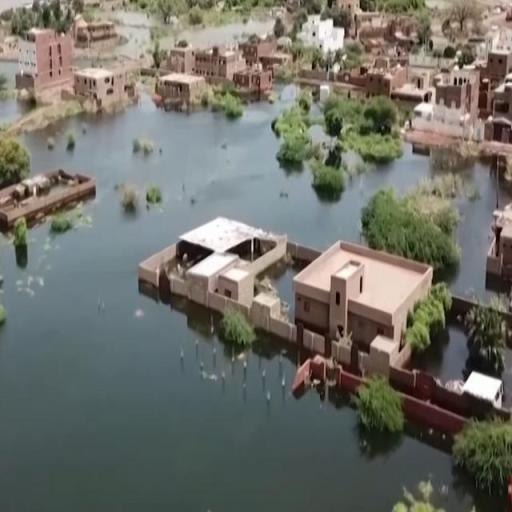flood: (0, 84, 478, 512), (447, 162, 498, 300)
house: (292, 236, 446, 378), (151, 214, 288, 326), (14, 26, 76, 104), (76, 62, 134, 120), (486, 200, 512, 282), (159, 70, 205, 116)
